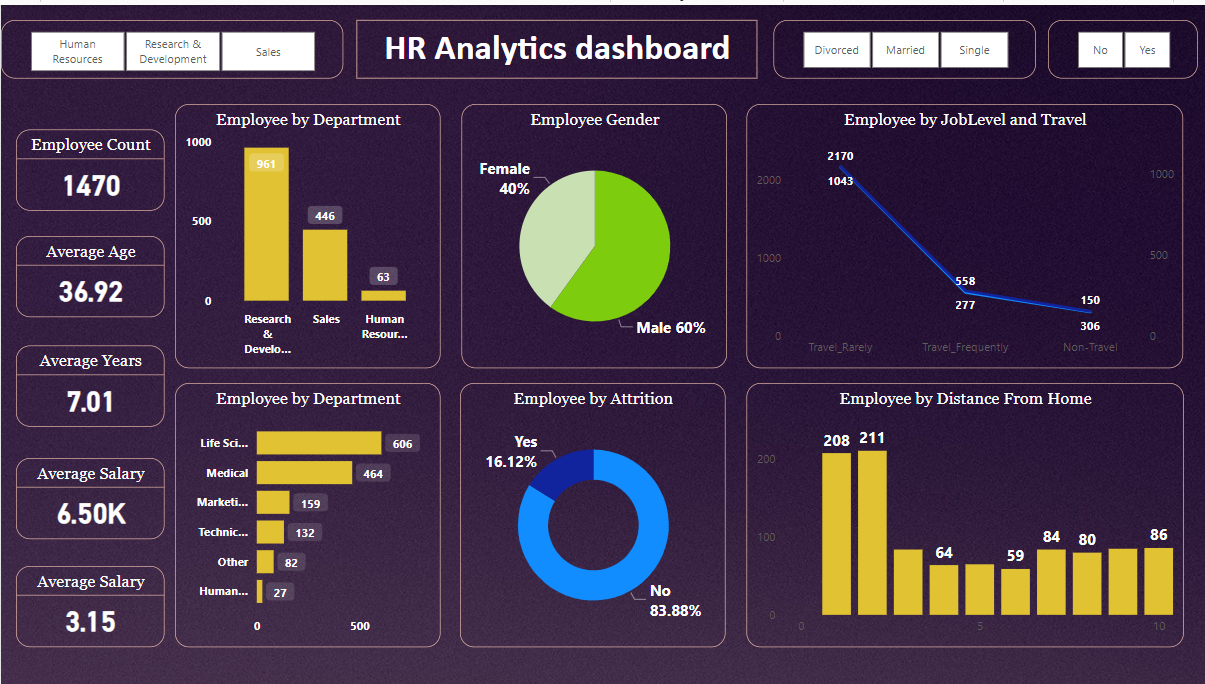

Layout of this report page (visuals, bound fields, positions):
{"tool":"powerbi","page":{"name":"Page 1","canvas":[1280,720],"ordinal":0},"visuals":[{"type":"columnChart","title":" Employee by Department","fields":{"Y":["Sum(HR-Employee-Attrition.EmployeeCount)"],"Category":["HR-Employee-Attrition.Department"]},"box":[184.4,104.9,281.3,279.7],"z":0},{"type":"card","title":"Average Salary","fields":{"Values":["Avg(HR-Employee-Attrition.MonthlyIncome)"]},"box":[15.9,480,157.4,85.8],"z":1000},{"type":"card","title":"Average Years","fields":{"Values":["Avg(HR-Employee-Attrition.YearsAtCompany)"]},"box":[15.9,360.8,157.4,85.8],"z":2000},{"type":"card","title":"Average Age","fields":{"Values":["Avg(HR-Employee-Attrition.Age)"]},"box":[15.9,244.8,157.4,85.8],"z":3000},{"type":"card","title":"Employee Count","fields":{"Values":["Sum(HR-Employee-Attrition.EmployeeCount)"]},"box":[15.9,131.9,157.4,85.8],"z":4000},{"type":"card","title":"Average Salary","fields":{"Values":["Avg(HR-Employee-Attrition.PerformanceRating)"]},"box":[15.9,594.4,157.4,85.8],"z":5000},{"type":"barChart","title":" Employee by Department","fields":{"Category":["HR-Employee-Attrition.EducationField"],"Y":["Sum(HR-Employee-Attrition.EmployeeCount)"]},"box":[184.4,400.5,281.3,279.7],"z":6000},{"type":"pieChart","title":"Employee Gender","fields":{"Category":["HR-Employee-Attrition.Gender"],"Y":["Sum(HR-Employee-Attrition.EmployeeCount)"]},"box":[487.9,104.9,281.3,279.7],"z":7000},{"type":"donutChart","title":"Employee by Attrition","fields":{"Category":["HR-Employee-Attrition.Attrition"],"Y":["Sum(HR-Employee-Attrition.EmployeeCount)"]},"box":[486.4,400.5,281.3,279.7],"z":8000},{"type":"lineChart","title":"Employee by JobLevel and Travel","fields":{"Category":["HR-Employee-Attrition.BusinessTravel"],"Y":["Sum(HR-Employee-Attrition.JobLevel)"],"Y2":["Sum(HR-Employee-Attrition.EmployeeCount)"]},"box":[789.9,104.9,462.5,279.7],"z":9000},{"type":"columnChart","title":"Employee by Distance From Home","fields":{"Category":["HR-Employee-Attrition.DistanceFromHome"],"Y":["Sum(HR-Employee-Attrition.EmployeeCount)"]},"box":[790,401,463,280],"z":10000},{"type":"textbox","box":[376.7,15.9,424.4,62],"z":10001},{"type":"slicer","fields":{"Values":["HR-Employee-Attrition.Department"]},"box":[0,15.9,362.4,62],"z":10002},{"type":"slicer","fields":{"Values":["HR-Employee-Attrition.MaritalStatus"]},"box":[818.5,15.9,278.1,62],"z":10003},{"type":"slicer","fields":{"Values":["HR-Employee-Attrition.OverTime"]},"box":[1109.4,15.9,158.9,62],"z":10004}]}

Visuals, with their boxes in screenshot pixels (x1, y1, x2, y2), scaled from the page's 1280x720 canvas onto the 1205x684 screenshot:
" Employee by Department" columnChart: [174,100,438,365]
"Average Salary" card: [15,456,163,538]
"Average Years" card: [15,343,163,424]
"Average Age" card: [15,233,163,314]
"Employee Count" card: [15,125,163,207]
"Average Salary" card: [15,565,163,646]
" Employee by Department" barChart: [174,380,438,646]
"Employee Gender" pieChart: [459,100,724,365]
"Employee by Attrition" donutChart: [458,380,723,646]
"Employee by JobLevel and Travel" lineChart: [744,100,1179,365]
"Employee by Distance From Home" columnChart: [744,381,1180,647]
textbox: [355,15,754,74]
slicer - HR-Employee-Attrition.Department: [0,15,341,74]
slicer - HR-Employee-Attrition.MaritalStatus: [771,15,1032,74]
slicer - HR-Employee-Attrition.OverTime: [1044,15,1194,74]
